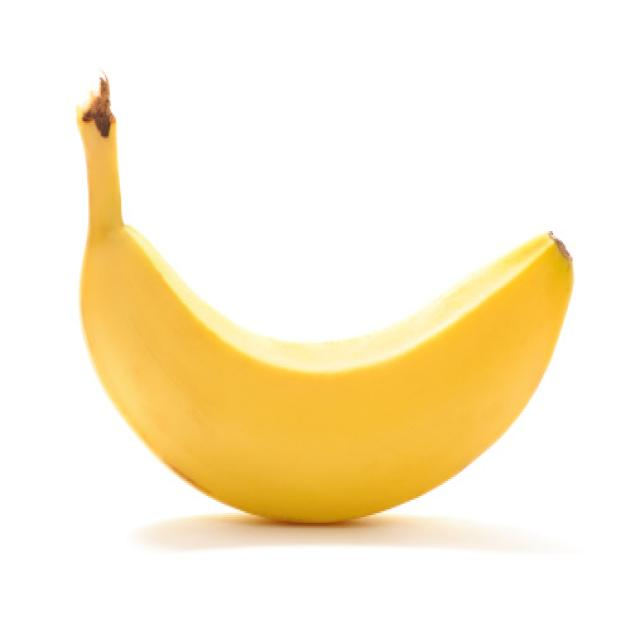non_orange: (74, 76, 576, 530)
